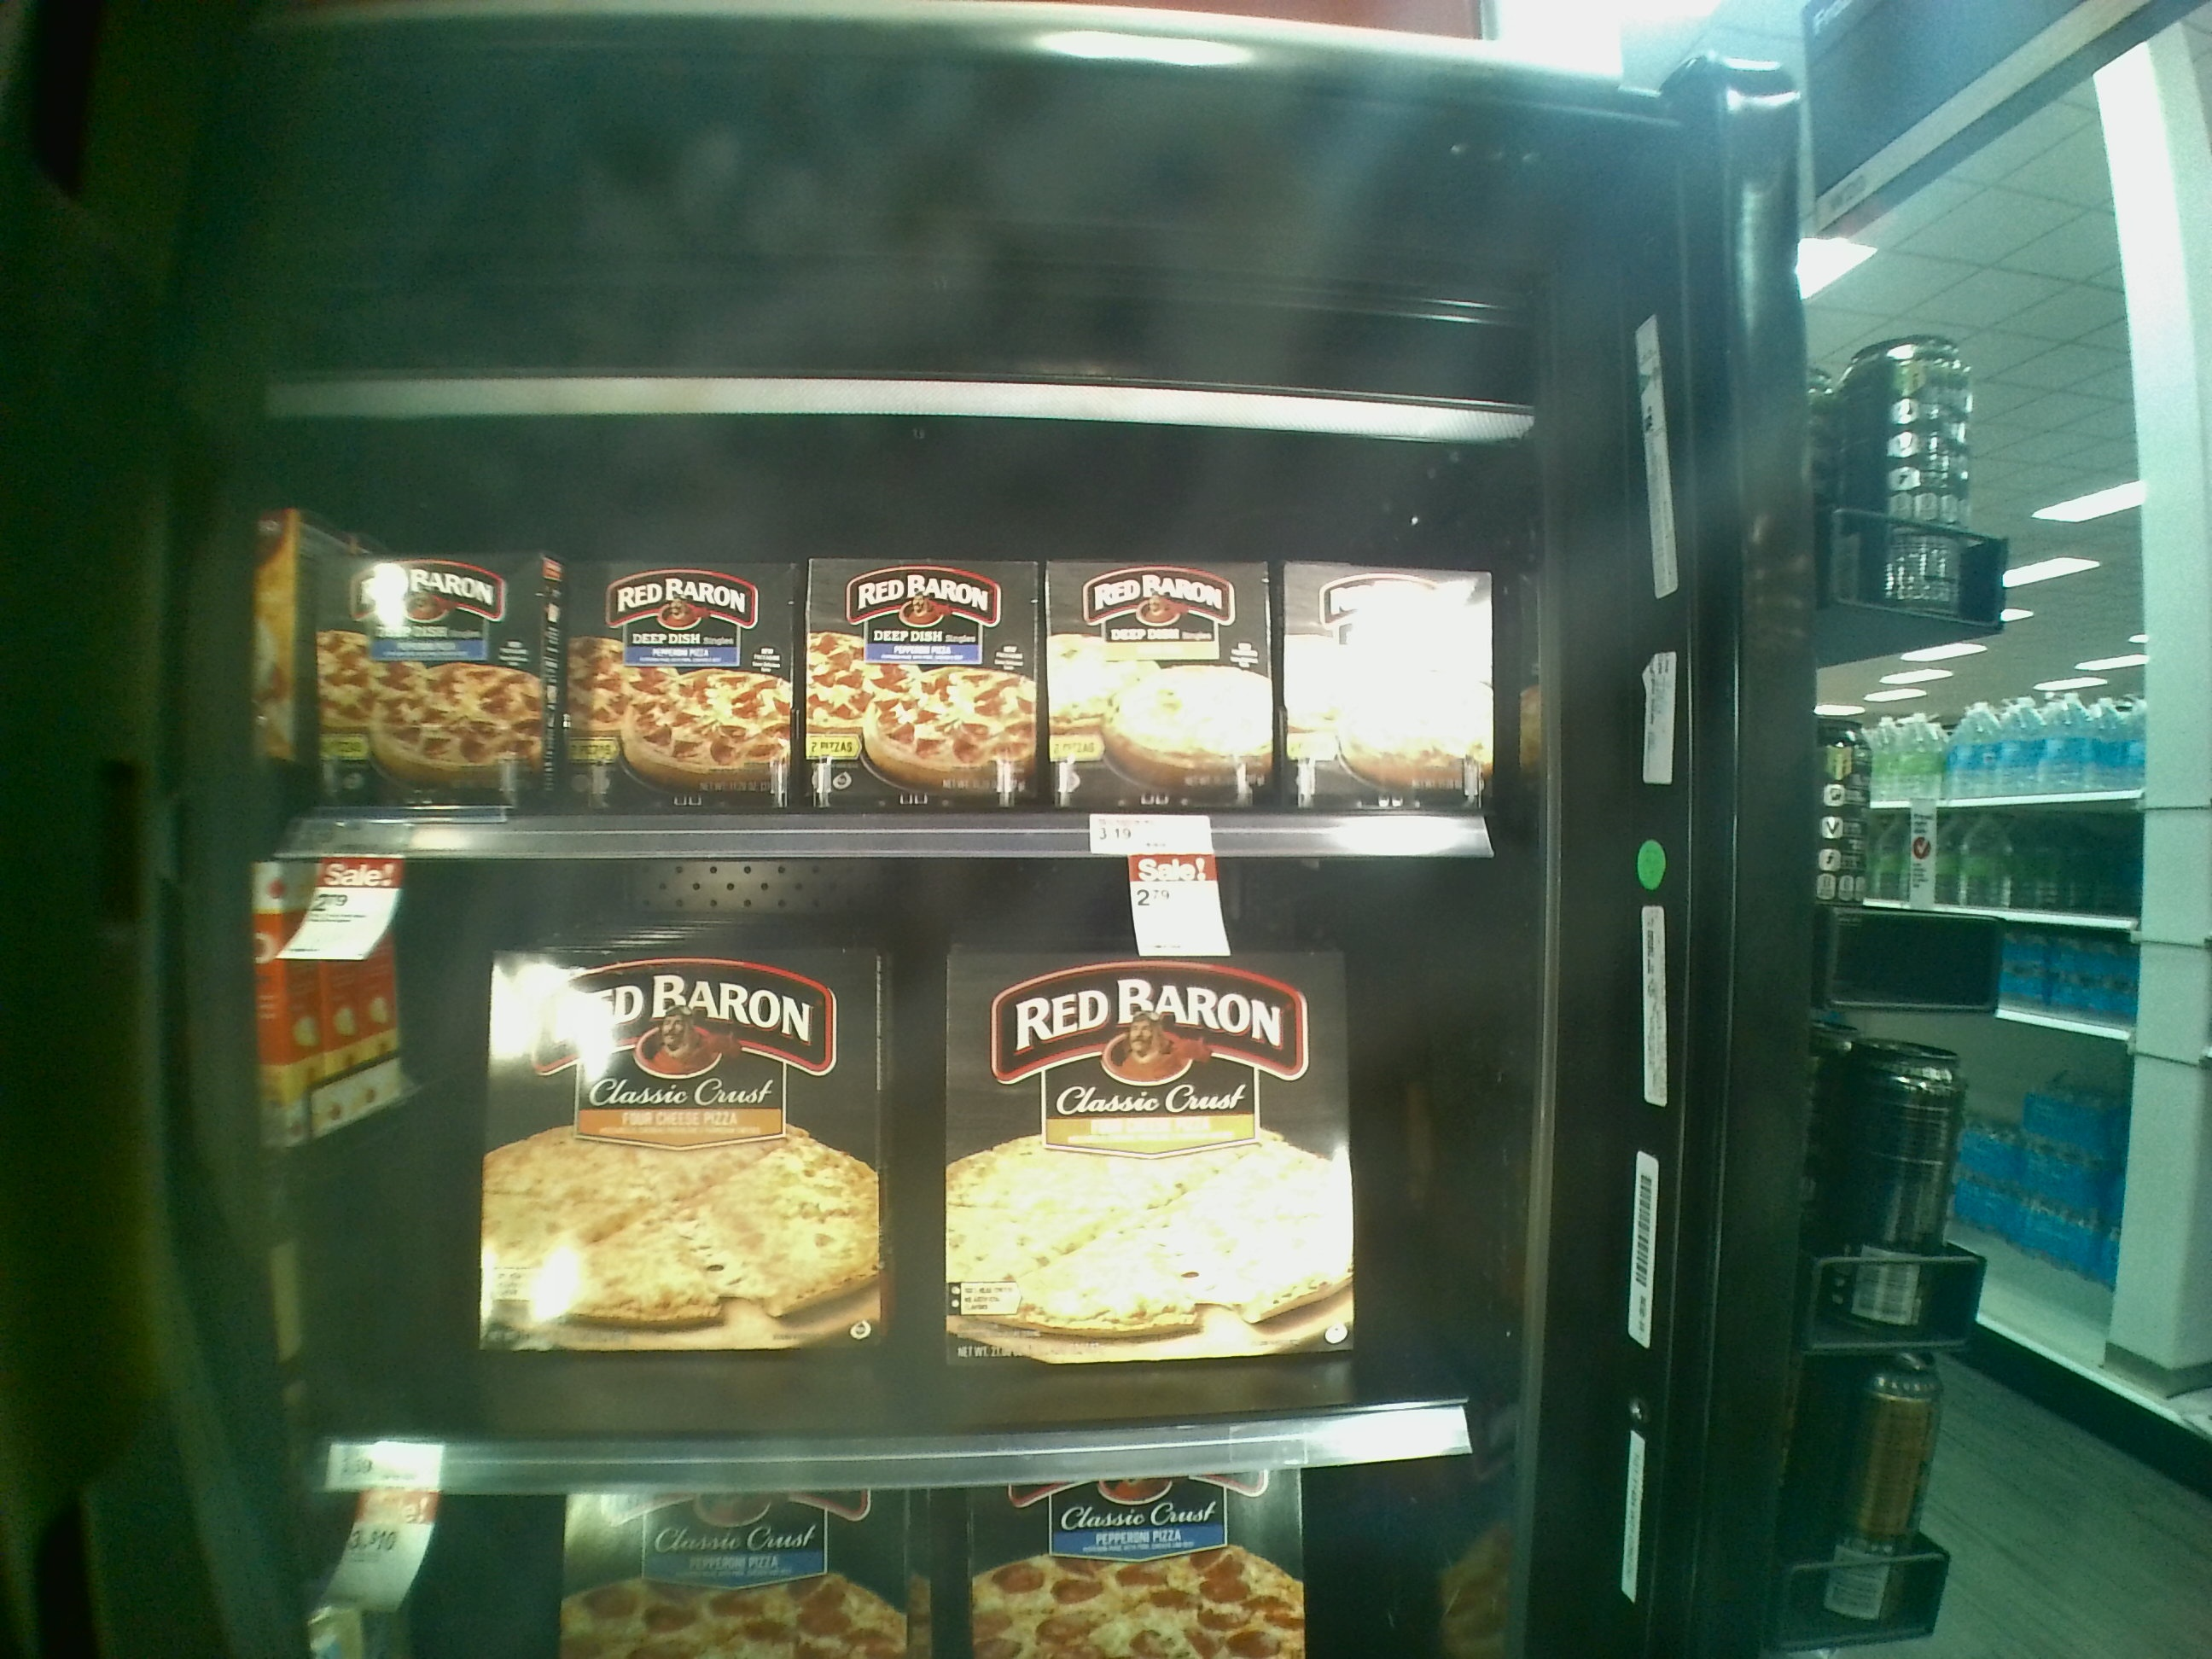shelf: (293, 845, 1514, 1474), (270, 383, 1508, 863)
